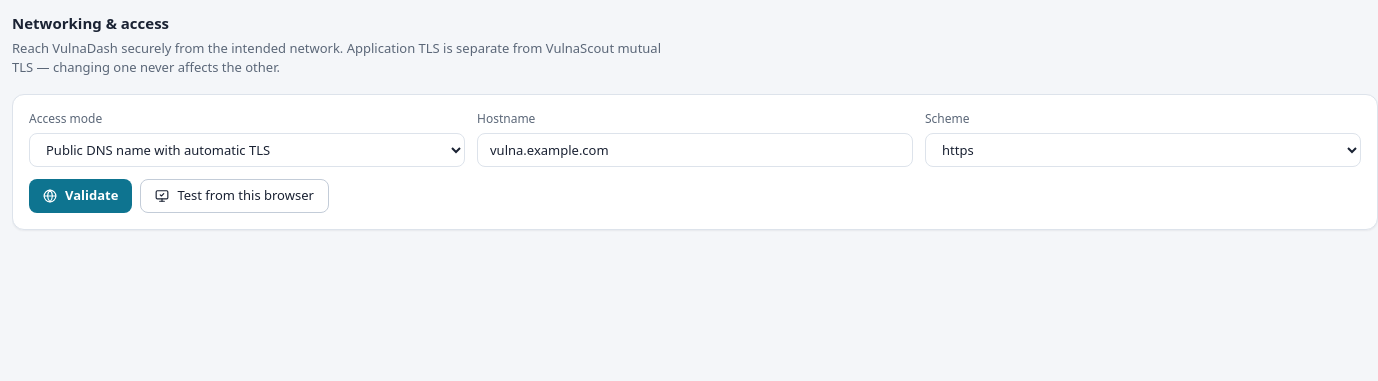
Test: NetworkingPage › validates an access config and shows the issue + remediation
The width and height of the screenshot is (1378, 381).
Click the button "Validate".
click(81, 196)  # box x1=29 y1=178 x2=132 y2=212
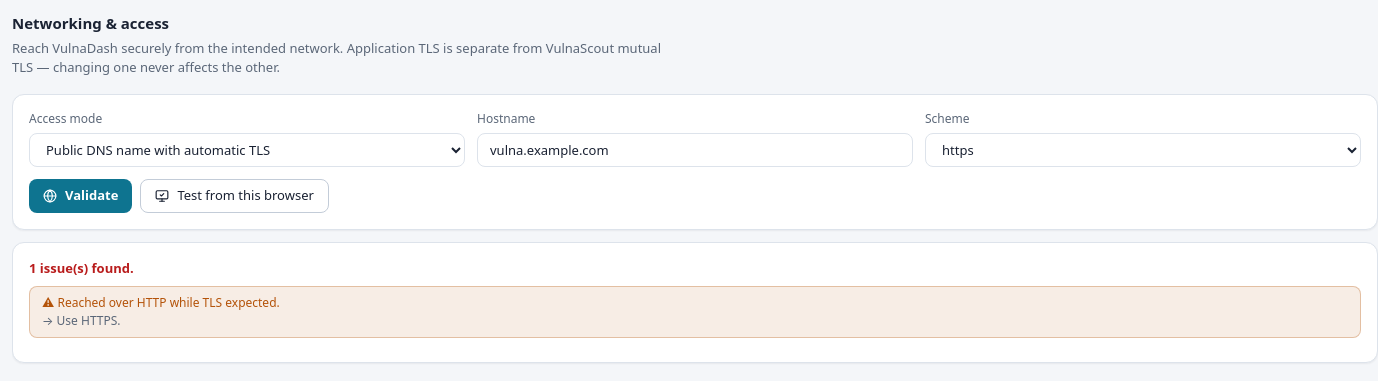
Expected: the text "⚠ Reached over HTTP while TLS expected." is shown, x1=42 y1=294 x2=280 y2=311
Expected: the text "→ Use HTTPS." is shown, x1=42 y1=312 x2=120 y2=329
